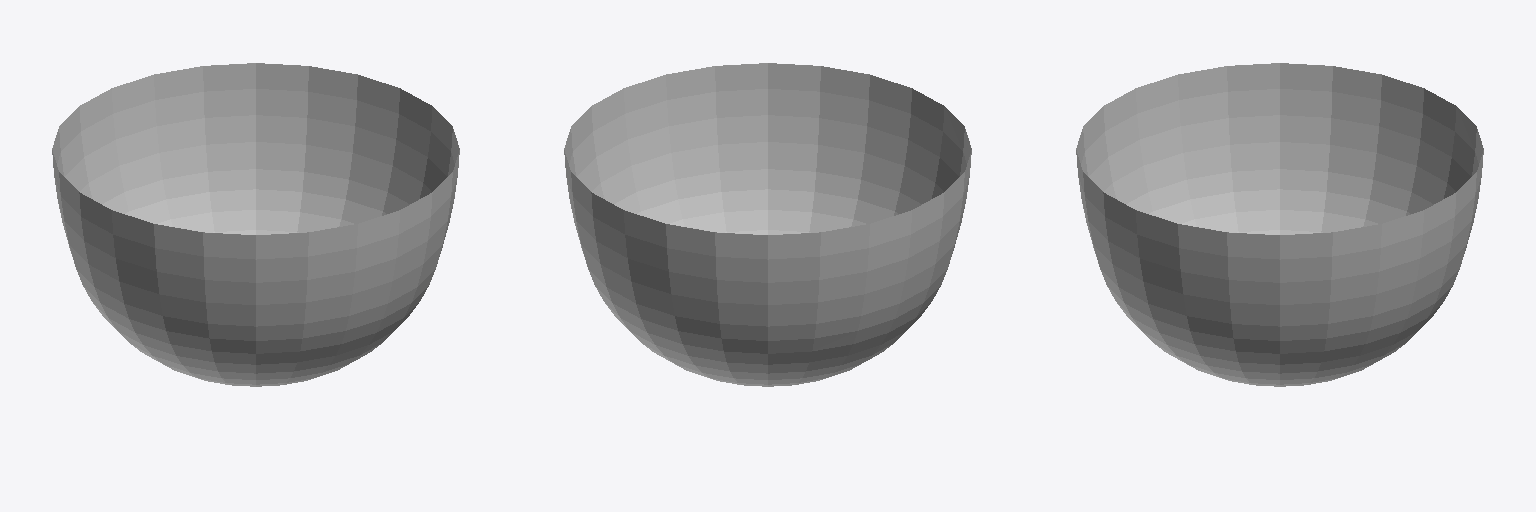
File: pina_ladob.obj
3 views of the same model, side by side, from view 1: azimuth 30°, elevation 25°; view 2: azimuth 150°, elevation 25°; view 3: azimuth 270°, elevation 25° (orthographic).
Parts seen in each view (by area): view 1: Mesh1 Model; view 2: Mesh1 Model; view 3: Mesh1 Model.
Boxes of the visible parts, x1,y1,x2,y2 form: Mesh1 Model: [52, 63, 459, 386]; Mesh1 Model: [564, 63, 971, 386]; Mesh1 Model: [1076, 63, 1483, 386].
Bounding box in the file's own units: 6.37 × 3.68 × 6.37.